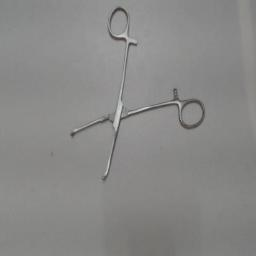Allis Tissue Forceps: (63, 2, 211, 190)
